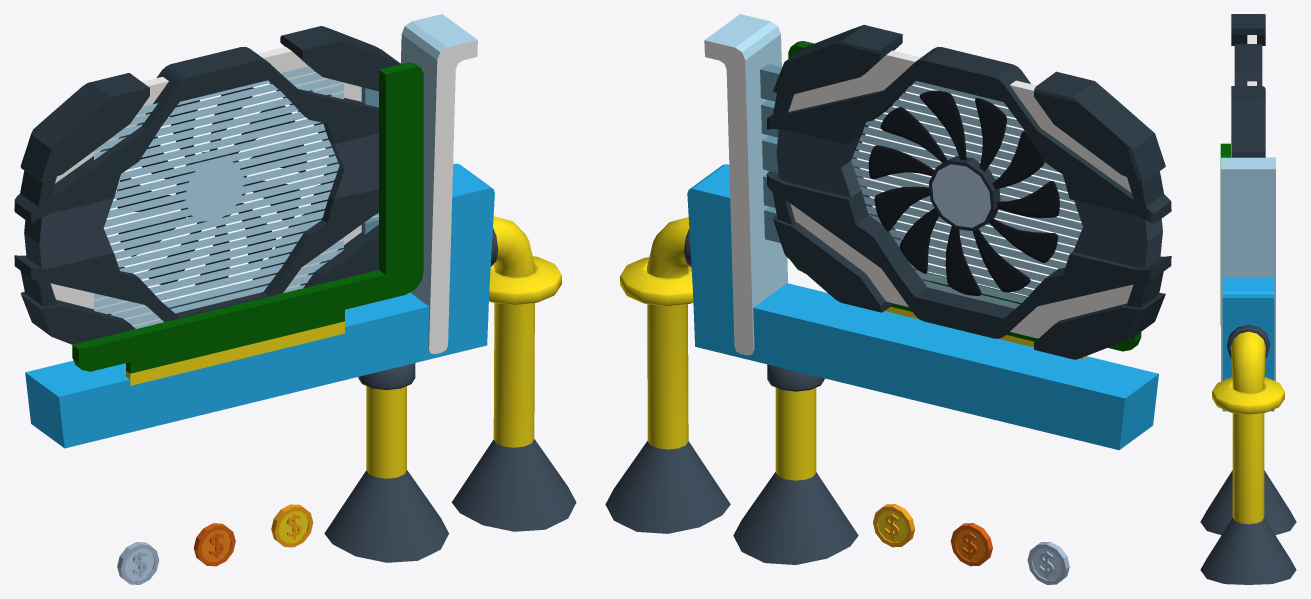
Rendered from Fan_1new.fbx.
3 views of the same model, side by side, from view 1: azimuth 30°, elevation 25°; view 2: azimuth 150°, elevation 25°; view 3: azimuth 270°, elevation 25° (orthographic). The views are drawn at different scales.
Parts seen in each view (by area): view 1: Fan_1_machine, Fan_1_statictable, Fan_1_staticstick, Yellow_pipe_big, Yellow_pipe_small_funnel, Yellow_pipe_big_funnel, Yellow_pipe_small, Fan_1.002, Yellow_pipe_circle, Money_gold, Money_bronze, Money_silver; view 2: Fan_1_machine, Fan_1_statictable, Fan_1.002, Fan_1_staticstick, Yellow_pipe_big, Yellow_pipe_big_funnel, Yellow_pipe_small_funnel, Yellow_pipe_small, Yellow_pipe_circle, Money_bronze, Money_gold, Money_silver; view 3: Fan_1_staticstick, Yellow_pipe_big, Fan_1_machine, Yellow_pipe_big_funnel, Fan_1_statictable, Yellow_pipe_small_funnel, Yellow_pipe_circle.
Boxes of the visible parts, bbox=[...] form: Fan_1_machine: bbox=[14, 26, 423, 385]; Fan_1_statictable: bbox=[25, 163, 494, 448]; Fan_1_staticstick: bbox=[361, 14, 477, 353]; Yellow_pipe_big: bbox=[490, 216, 534, 447]; Yellow_pipe_small_funnel: bbox=[324, 470, 448, 562]; Yellow_pipe_big_funnel: bbox=[451, 439, 576, 531]; Yellow_pipe_small: bbox=[358, 363, 415, 478]; Fan_1.002: bbox=[116, 87, 306, 285]; Yellow_pipe_circle: bbox=[489, 256, 561, 305]; Money_gold: bbox=[271, 504, 313, 547]; Money_bronze: bbox=[193, 523, 235, 566]; Money_silver: bbox=[117, 542, 159, 584]; Fan_1_machine: bbox=[766, 25, 1171, 359]; Fan_1_statictable: bbox=[687, 164, 1158, 449]; Fan_1.002: bbox=[868, 90, 1059, 295]; Fan_1_staticstick: bbox=[704, 14, 787, 355]; Yellow_pipe_big: bbox=[647, 217, 691, 449]; Yellow_pipe_big_funnel: bbox=[605, 441, 730, 533]; Yellow_pipe_small_funnel: bbox=[733, 472, 858, 564]; Yellow_pipe_small: bbox=[767, 364, 824, 480]; Yellow_pipe_circle: bbox=[620, 257, 693, 306]; Money_bronze: bbox=[950, 523, 992, 566]; Money_gold: bbox=[873, 504, 914, 547]; Money_silver: bbox=[1027, 541, 1069, 584]; Fan_1_staticstick: bbox=[1221, 157, 1275, 381]; Yellow_pipe_big: bbox=[1227, 324, 1269, 524]; Fan_1_machine: bbox=[1220, 14, 1265, 325]; Yellow_pipe_big_funnel: bbox=[1200, 518, 1296, 584]; Fan_1_statictable: bbox=[1222, 277, 1274, 411]; Yellow_pipe_small_funnel: bbox=[1200, 470, 1296, 535]; Yellow_pipe_circle: bbox=[1212, 377, 1284, 414].
Size of the model in its own units: 1.39 by 1.26 by 0.2756.
